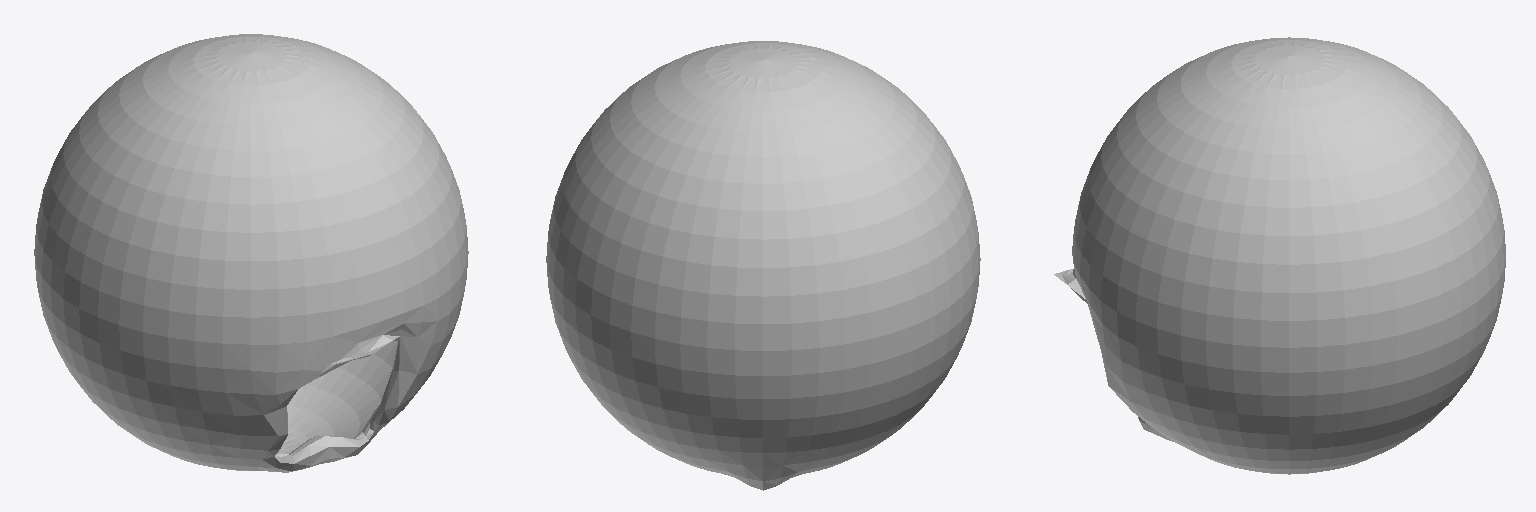
File: morph_terror.obj
3 views of the same model, side by side, from view 1: azimuth 30°, elevation 25°; view 2: azimuth 150°, elevation 25°; view 3: azimuth 270°, elevation 25° (orthographic).
Parts seen in each view (by area): view 1: peg_head_ui pegman_head peg_head HyperNURBS_1 HEAD; view 2: peg_head_ui pegman_head peg_head HyperNURBS_1 HEAD; view 3: peg_head_ui pegman_head peg_head HyperNURBS_1 HEAD.
Part boxes in pixels (bbox=[...]): peg_head_ui pegman_head peg_head HyperNURBS_1 HEAD: bbox=[34, 34, 468, 472]; peg_head_ui pegman_head peg_head HyperNURBS_1 HEAD: bbox=[546, 41, 980, 490]; peg_head_ui pegman_head peg_head HyperNURBS_1 HEAD: bbox=[1054, 37, 1505, 474].
Size of the model in its own units: 88.94 by 90.26 by 92.7.